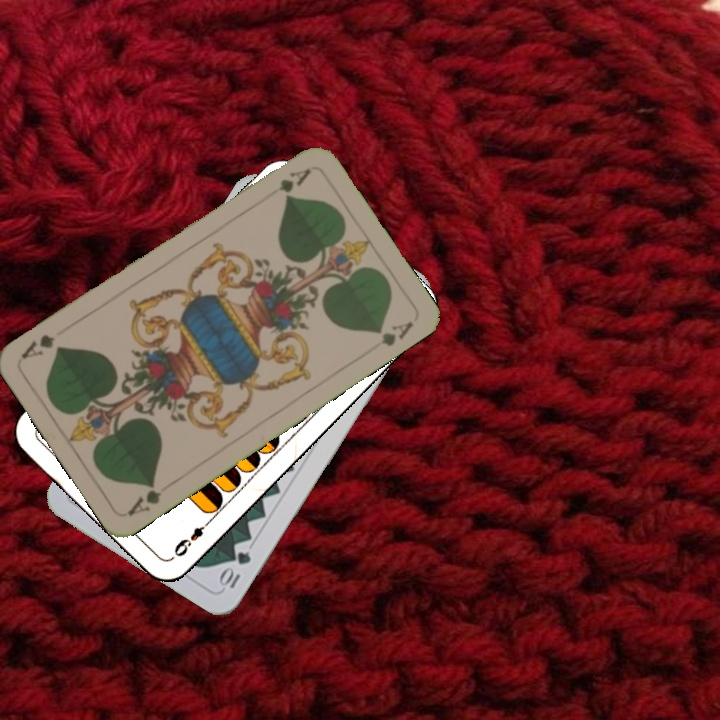E9: (169, 515, 215, 560)
G10: (216, 546, 254, 591)
GA: (261, 164, 314, 203), (124, 478, 164, 518)
